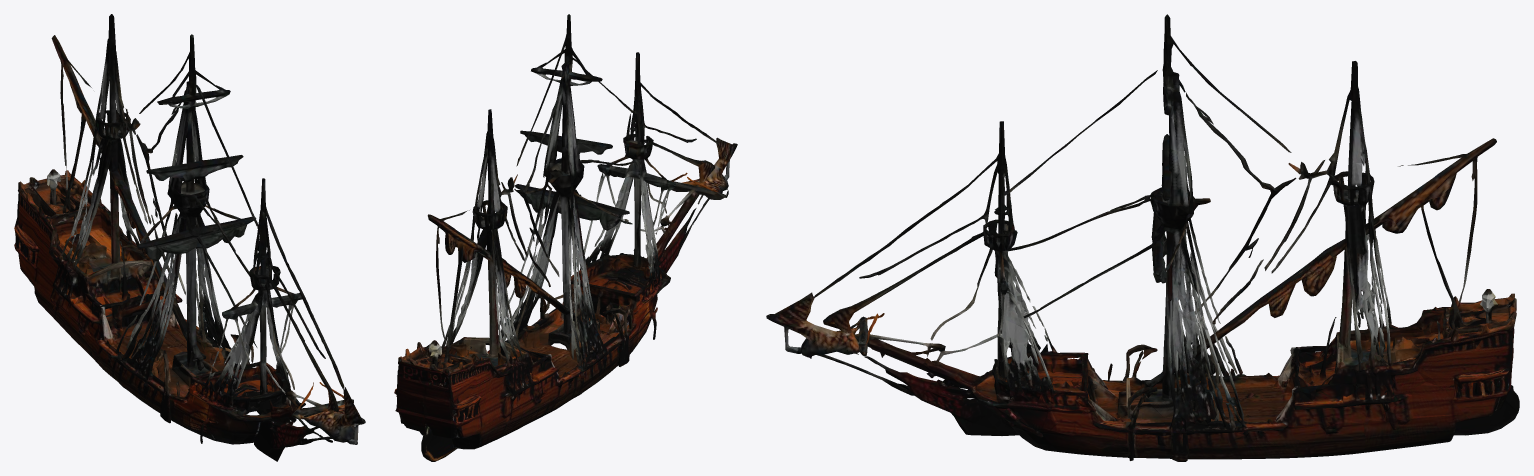
Rendered from early-ship.glb.
3 renders of one model, left to right at view 1: azimuth 30°, elevation 25°; view 2: azimuth 150°, elevation 25°; view 3: azimuth 270°, elevation 25°, orthographic. The views are drawn at different scales.
Visible parts, largest first — view 1: tripo_node_43222d77-c520-4f70-b21d-03fdf0b4e090; view 2: tripo_node_43222d77-c520-4f70-b21d-03fdf0b4e090; view 3: tripo_node_43222d77-c520-4f70-b21d-03fdf0b4e090.
Part boxes in pixels (x1,y1,x2,y2): tripo_node_43222d77-c520-4f70-b21d-03fdf0b4e090: (14,14,365,461); tripo_node_43222d77-c520-4f70-b21d-03fdf0b4e090: (394,14,737,461); tripo_node_43222d77-c520-4f70-b21d-03fdf0b4e090: (766,14,1519,461).
Bounding box in the file's own units: 2.96 × 8.65 × 14.
Materials: 1 (1 with a texture image).
